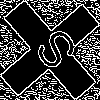S: (25, 25, 81, 81)
